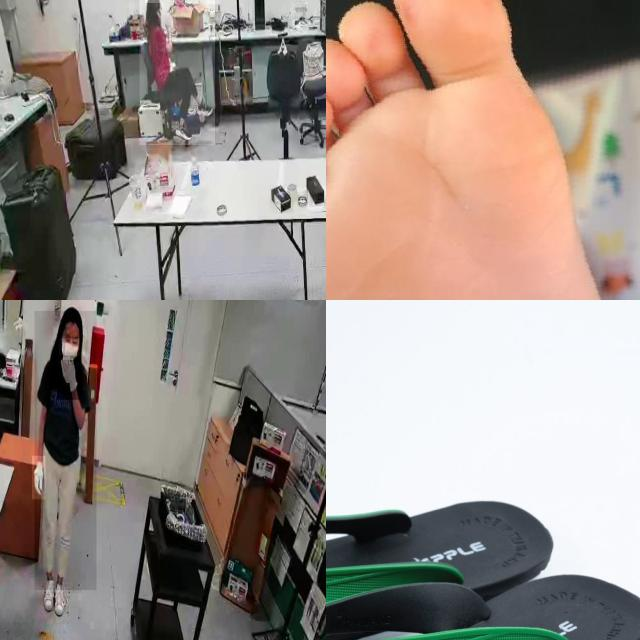Barefoots: (326, 0, 623, 300), (326, 0, 613, 300)
Sandals: (326, 476, 640, 640)
face_mask: (59, 338, 79, 360)
hand_glove: (57, 355, 81, 400), (32, 456, 46, 500)
hand_noglove: (165, 25, 171, 36)
head_nohelmet: (61, 307, 83, 325), (145, 0, 160, 3)
person: (35, 311, 97, 591), (139, 0, 215, 145)
shoes: (41, 574, 56, 616), (52, 580, 67, 619), (195, 92, 214, 119), (174, 117, 192, 143)
